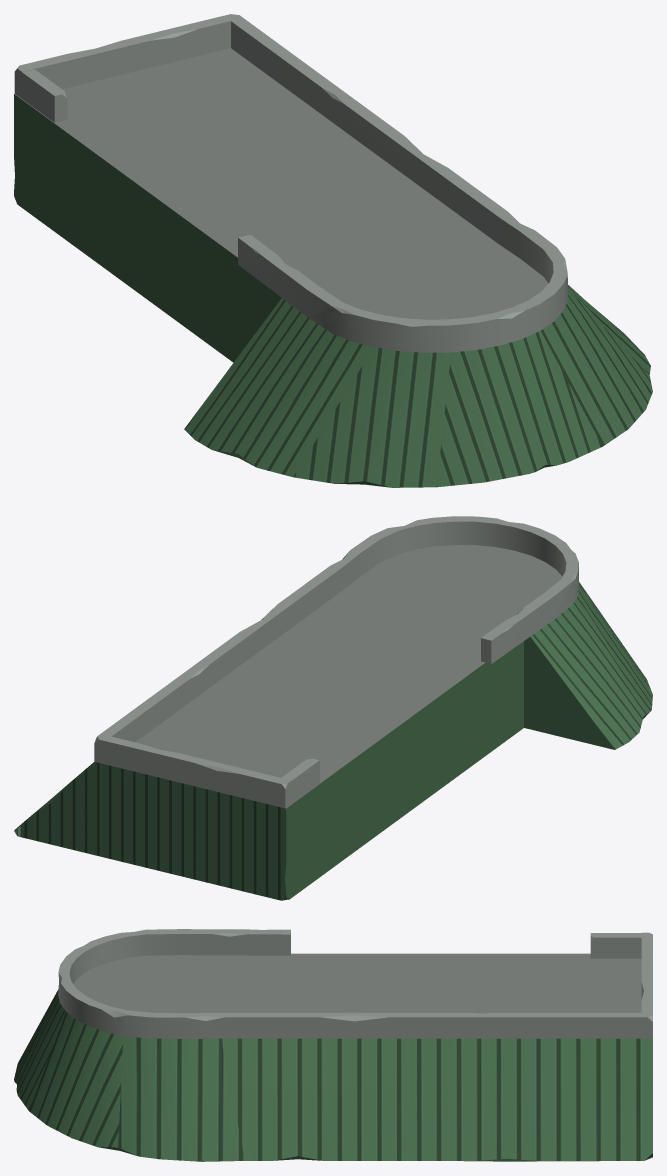
File: SM_Env_Roof_12.fbx
3 views of the same model, one above another, from view 1: azimuth 30°, elevation 25°; view 2: azimuth 150°, elevation 25°; view 3: azimuth 270°, elevation 25° (orthographic). The views are drawn at different scales.
Visible parts, largest first — view 1: SM_Env_Roof_12; view 2: SM_Env_Roof_12; view 3: SM_Env_Roof_12.
Part boxes in pixels (box(x1,y1,x2,y2)): SM_Env_Roof_12: box(14, 14, 652, 487); SM_Env_Roof_12: box(14, 516, 652, 900); SM_Env_Roof_12: box(14, 929, 652, 1161).
Bounding box in the file's own units: 180 × 55.93 × 295.
1 material, 1 textured.
